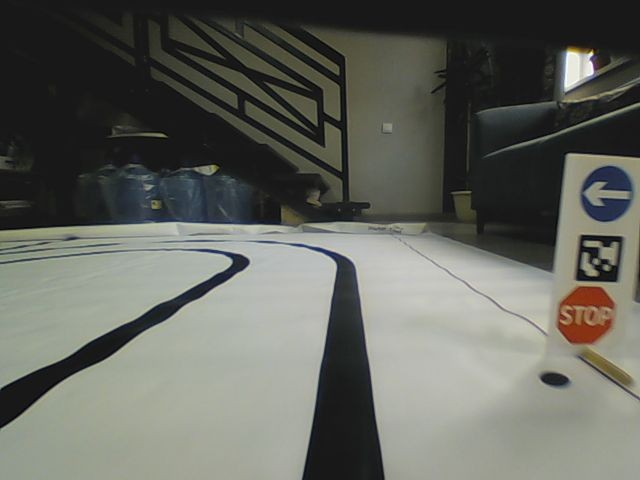Stop: (553, 283, 619, 347)
